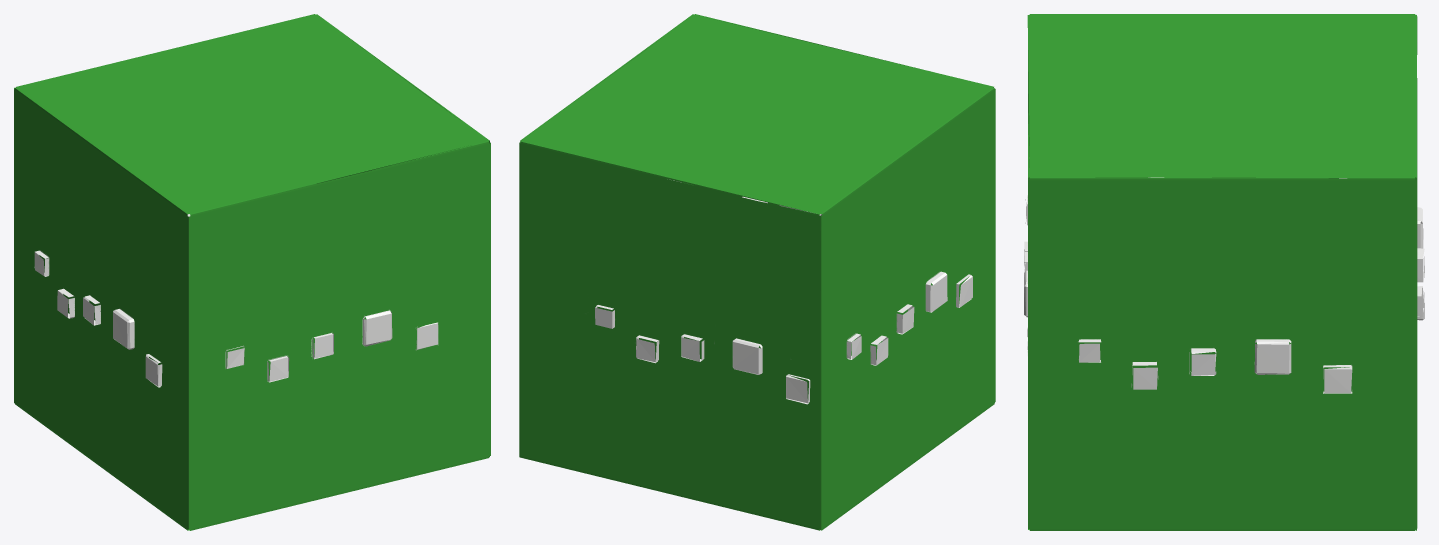
The model's file is sitzhocker.glb.
3 renders of one model, left to right at view 1: azimuth 30°, elevation 25°; view 2: azimuth 150°, elevation 25°; view 3: azimuth 270°, elevation 25°, orthographic. The views are drawn at different scales.
Visible parts, largest first — view 1: 278151_23_06_15_13_26_19_0, 278151_23_06_15_13_26_19_2, 278151_23_06_15_13_26_19_1; view 2: 278151_23_06_15_13_26_19_0, 278151_23_06_15_13_26_19_4, 278151_23_06_15_13_26_19_1; view 3: 278151_23_06_15_13_26_19_0, 278151_23_06_15_13_26_19_3, 278151_23_06_15_13_26_19_4.
Part boxes in pixels (<box>): 278151_23_06_15_13_26_19_0: <box>14,14,490,530</box>; 278151_23_06_15_13_26_19_2: <box>226,310,438,382</box>; 278151_23_06_15_13_26_19_1: <box>34,250,162,387</box>; 278151_23_06_15_13_26_19_0: <box>519,14,995,530</box>; 278151_23_06_15_13_26_19_4: <box>595,305,810,404</box>; 278151_23_06_15_13_26_19_1: <box>846,271,972,365</box>; 278151_23_06_15_13_26_19_0: <box>1027,14,1417,530</box>; 278151_23_06_15_13_26_19_3: <box>1078,339,1352,393</box>; 278151_23_06_15_13_26_19_4: <box>1417,207,1424,320</box>.
Size of the model in its own units: 4.87 by 4.65 by 4.79.
5 materials, 5 textured.
